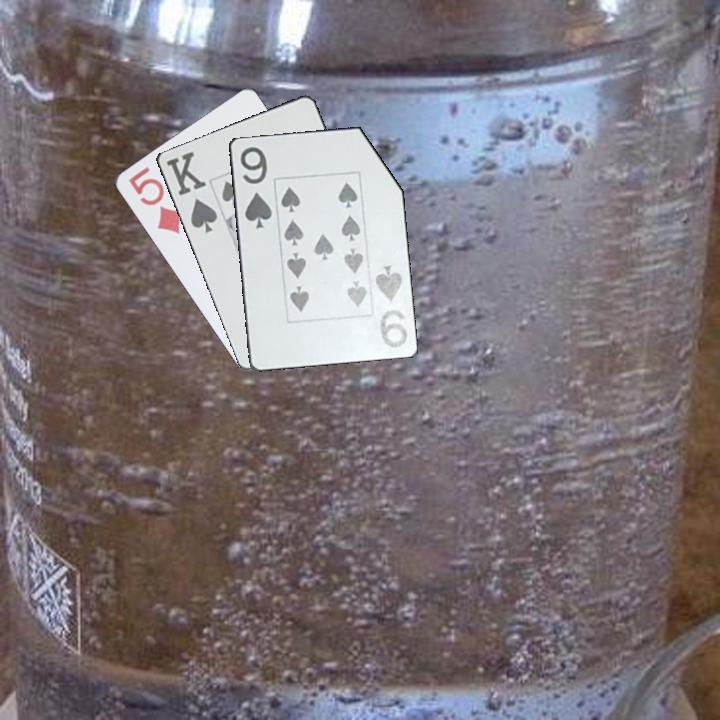5d: (124, 163, 184, 237)
9s: (236, 143, 275, 231), (371, 262, 410, 350)
Ks: (162, 147, 220, 236)
